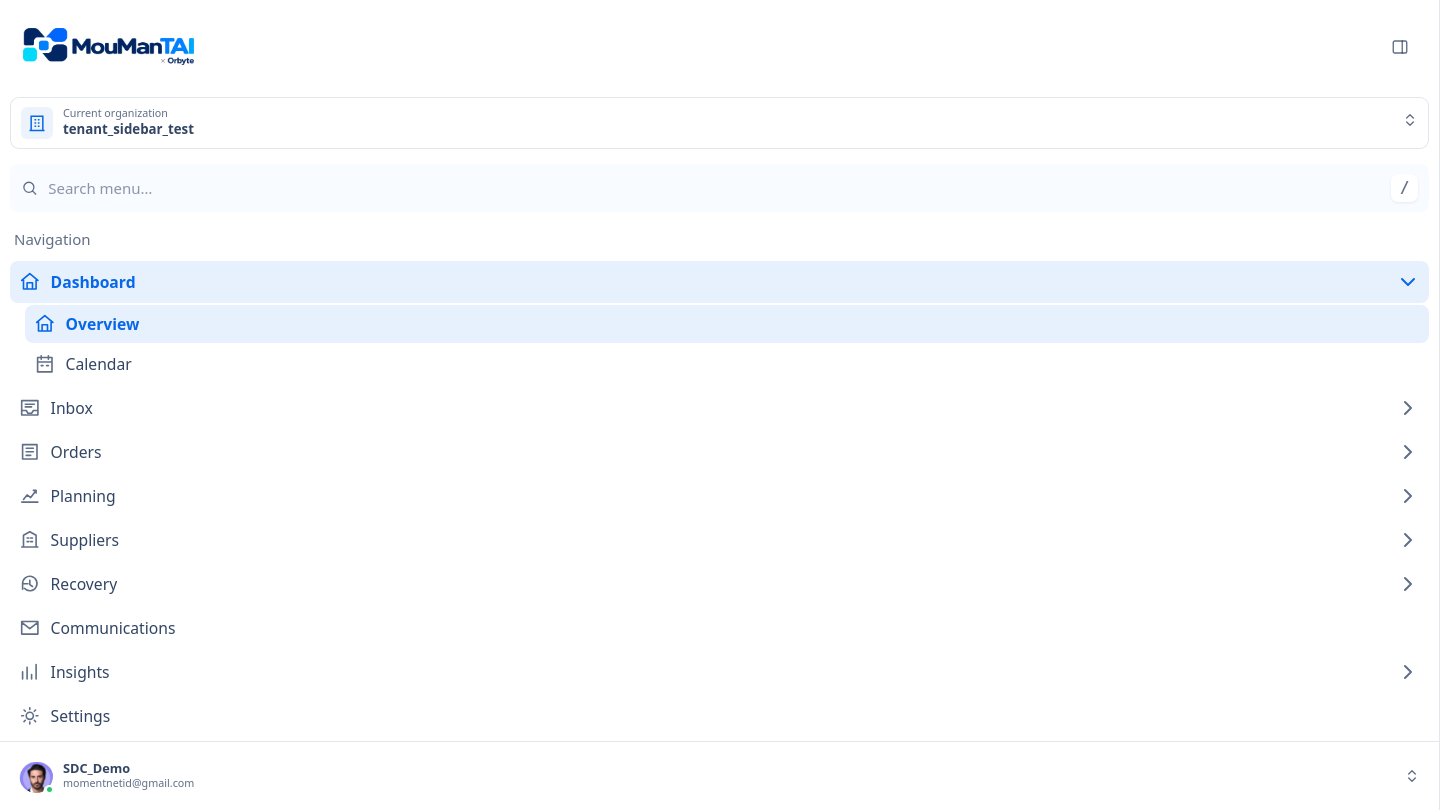
it: shared sidebar navigation › shows only the current tenant and dismisses the organization menu
This screenshot has width=1440, height=810.
Click the button with aria-label "Current organization: tenant_sidebar_test" at coordinates (37, 123), box 10,97 -> 1429,149
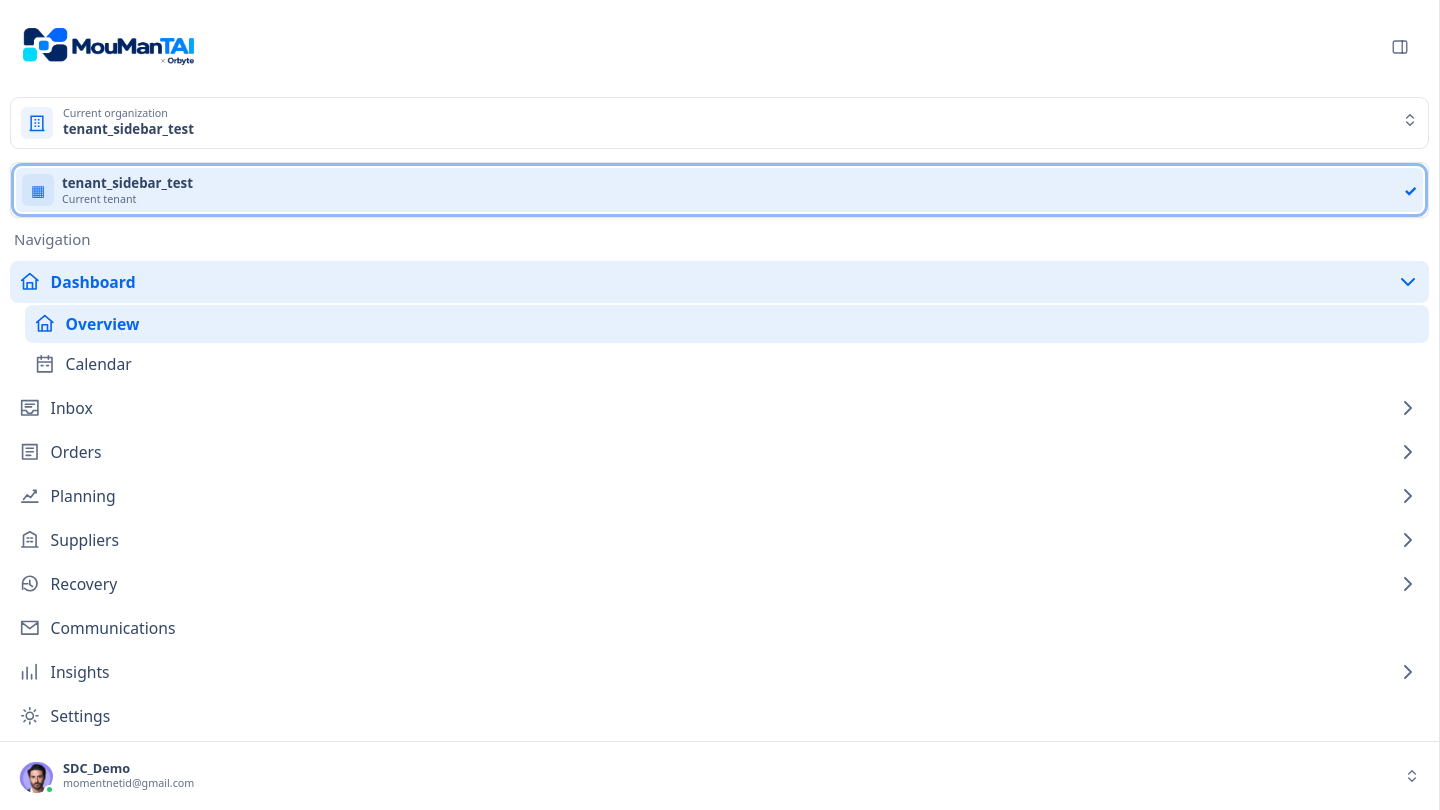
Check: the number of options is 1, box 16,168 -> 1423,212
Press Escape in the list named "Available organizations", box 10,162 -> 1429,218
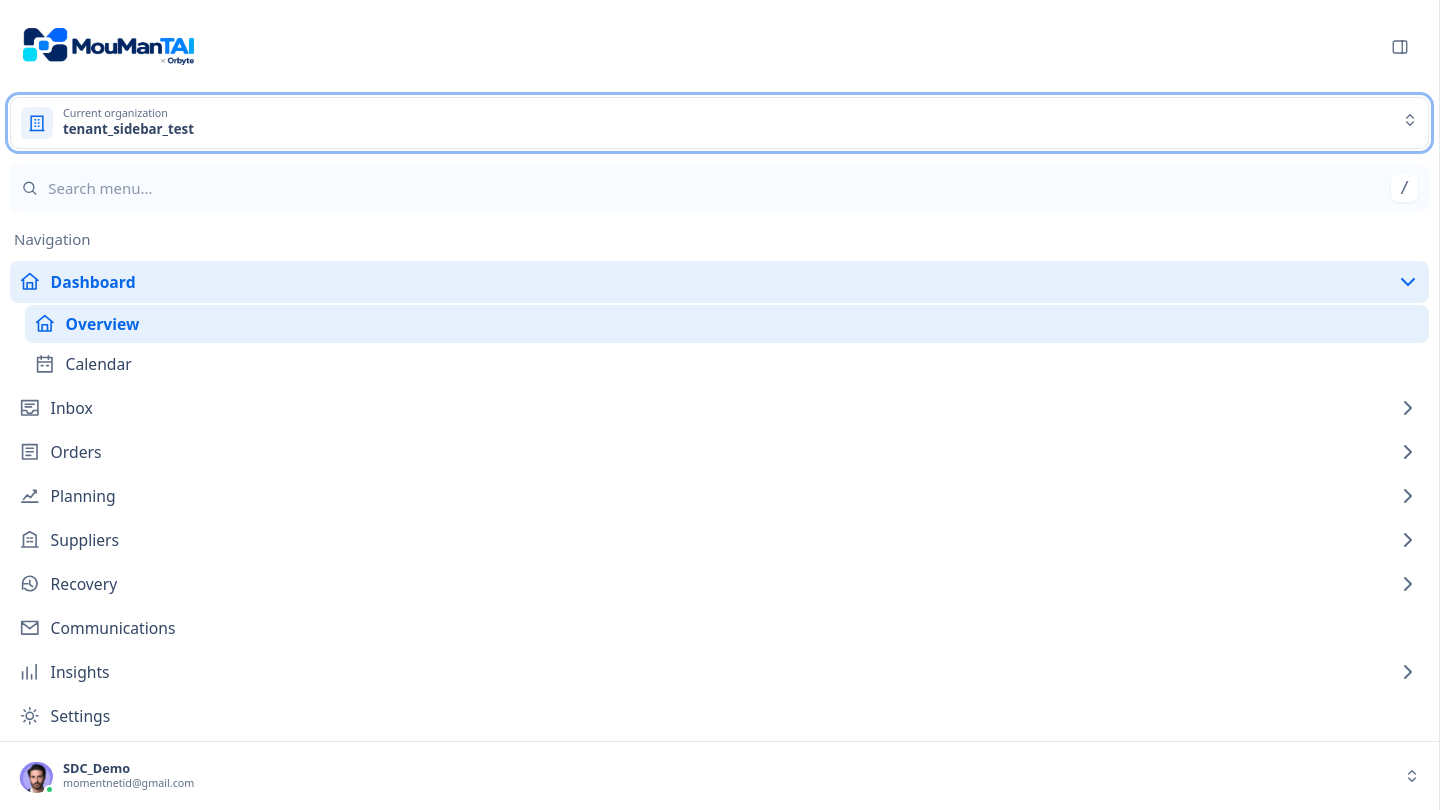
Check: the list is gone
Click the button with aria-label "Current organization: tenant_sidebar_test" at coordinates (37, 123), box 10,97 -> 1429,149
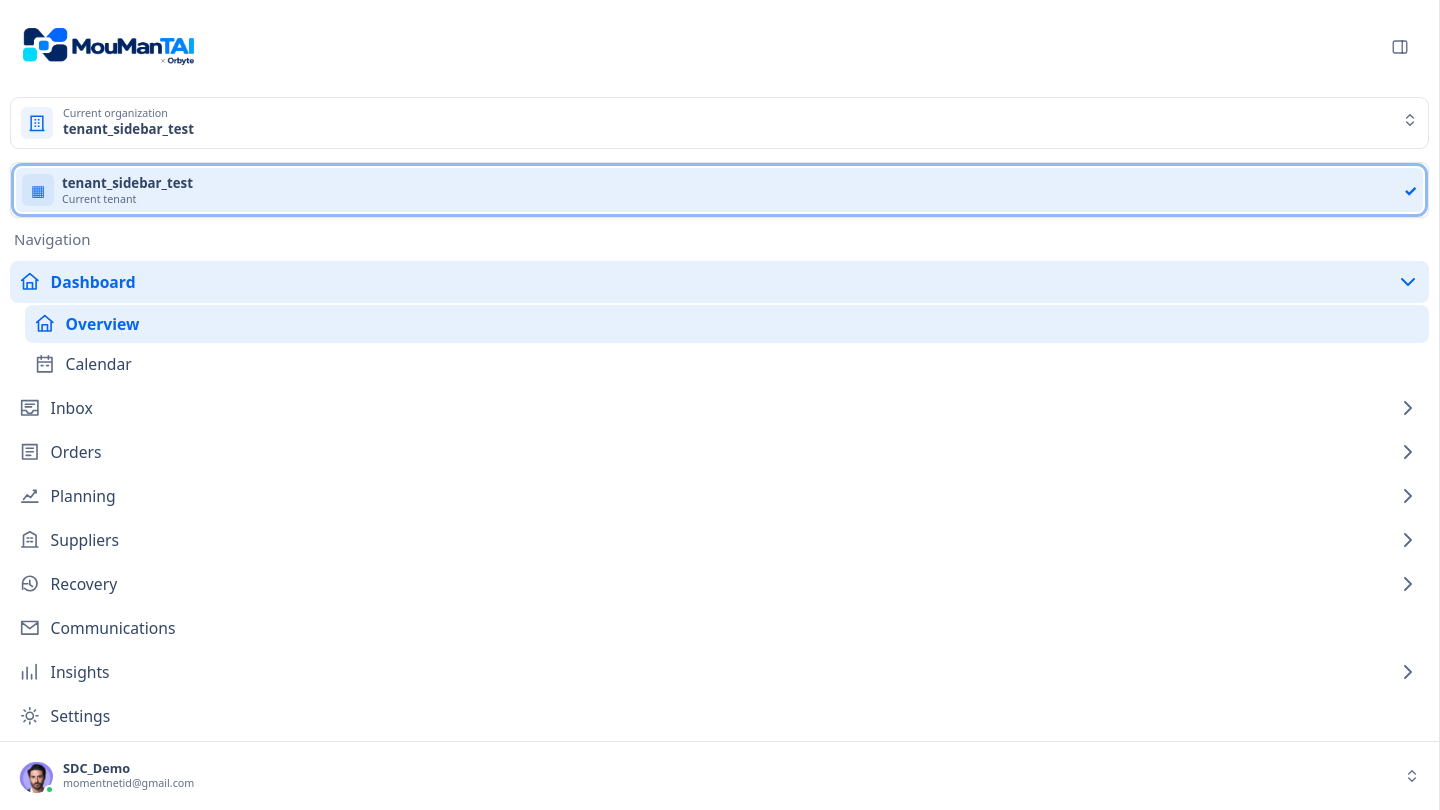
Press the mouse on the element that starts with "Current organization" at coordinates (720, 405), box 0,0 -> 1439,809
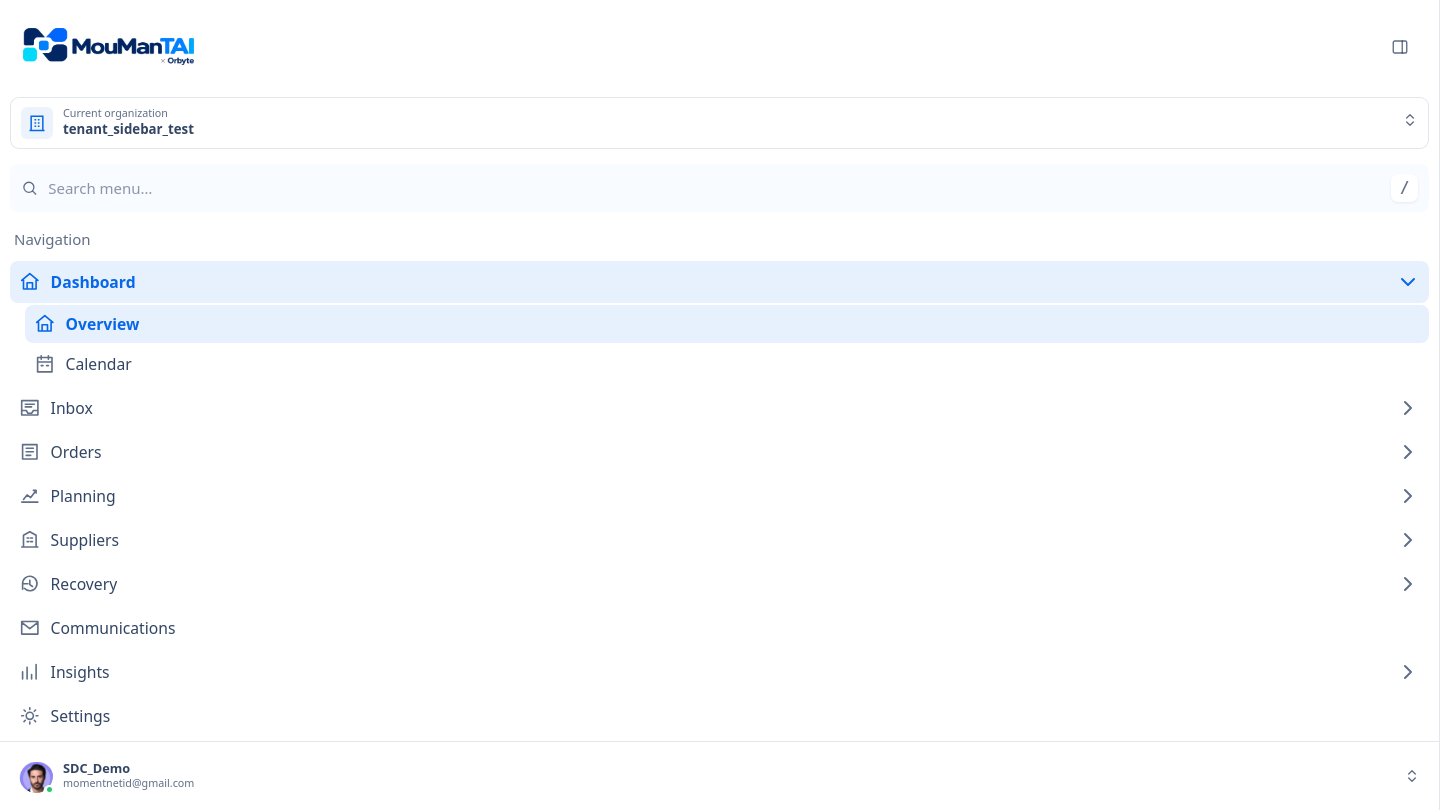
Check: the list is gone
Click the button with aria-label "Current organization: tenant_sidebar_test" at coordinates (37, 123), box 10,97 -> 1429,149
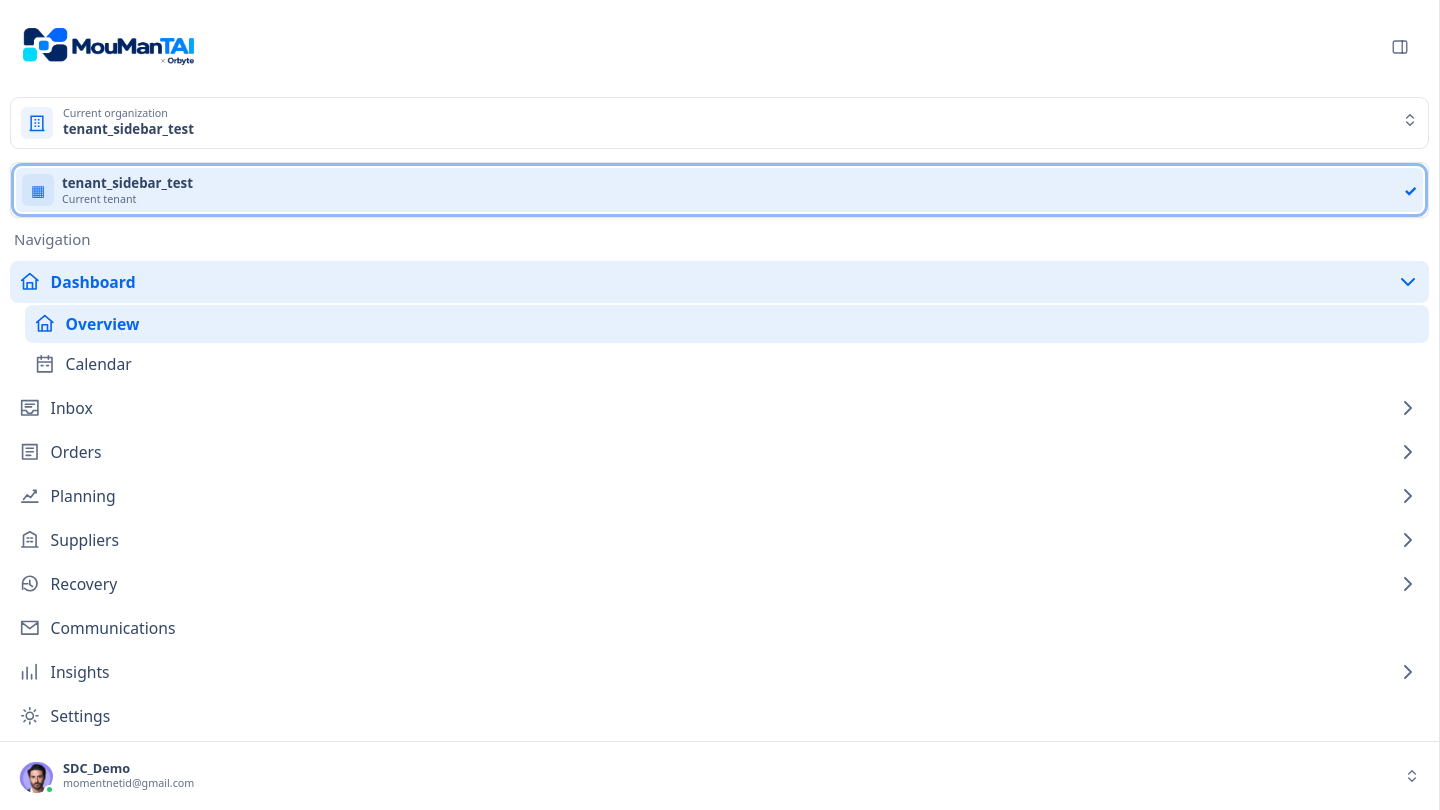
Click the option "▦ tenant_sidebar_test Current tenant ✓" at coordinates (38, 190), box 16,168 -> 1423,212
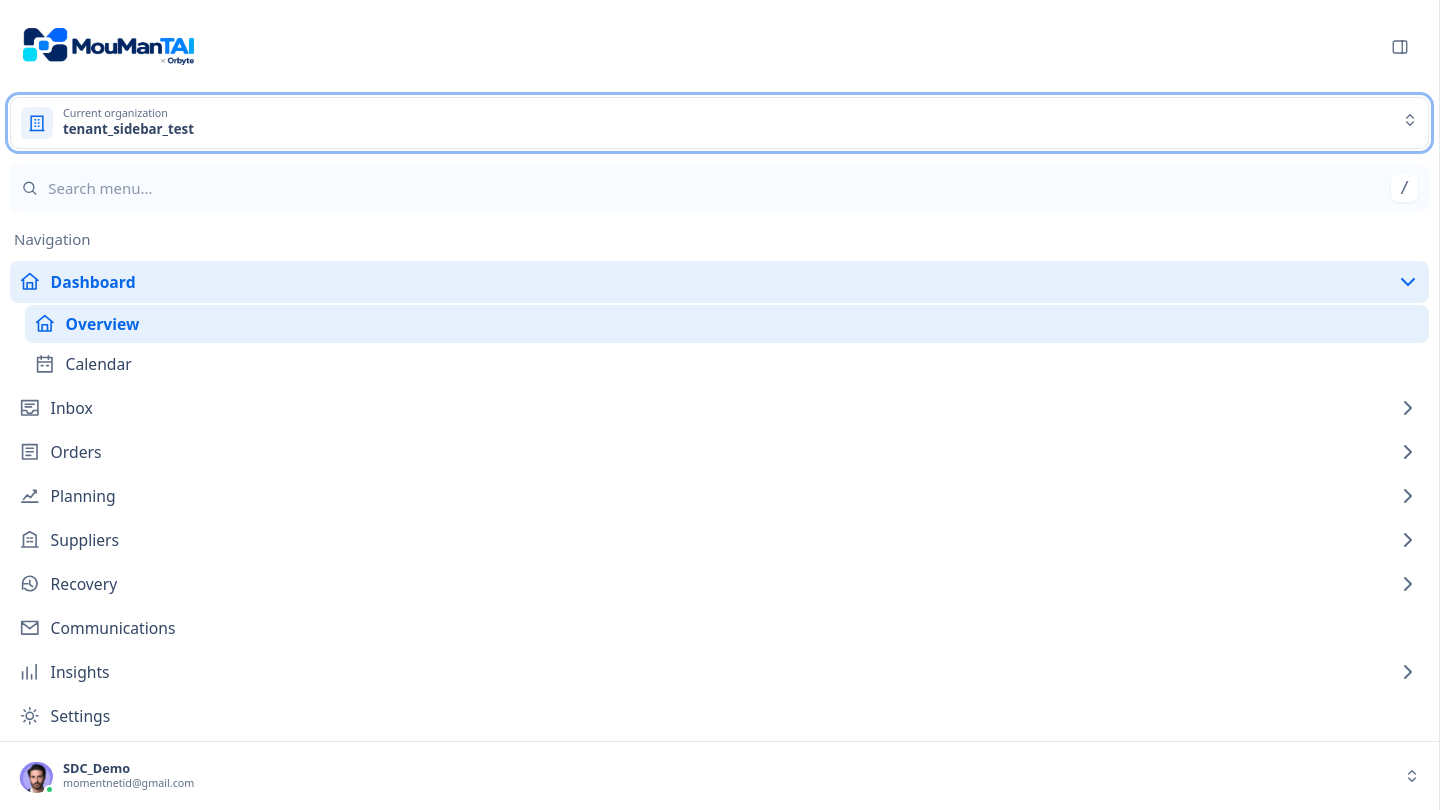
Check: the list is gone
